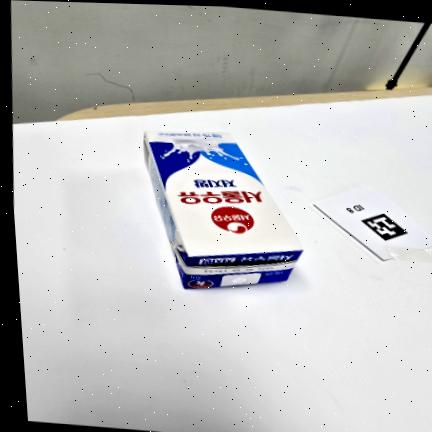milk_blue: (141, 130, 305, 289)
